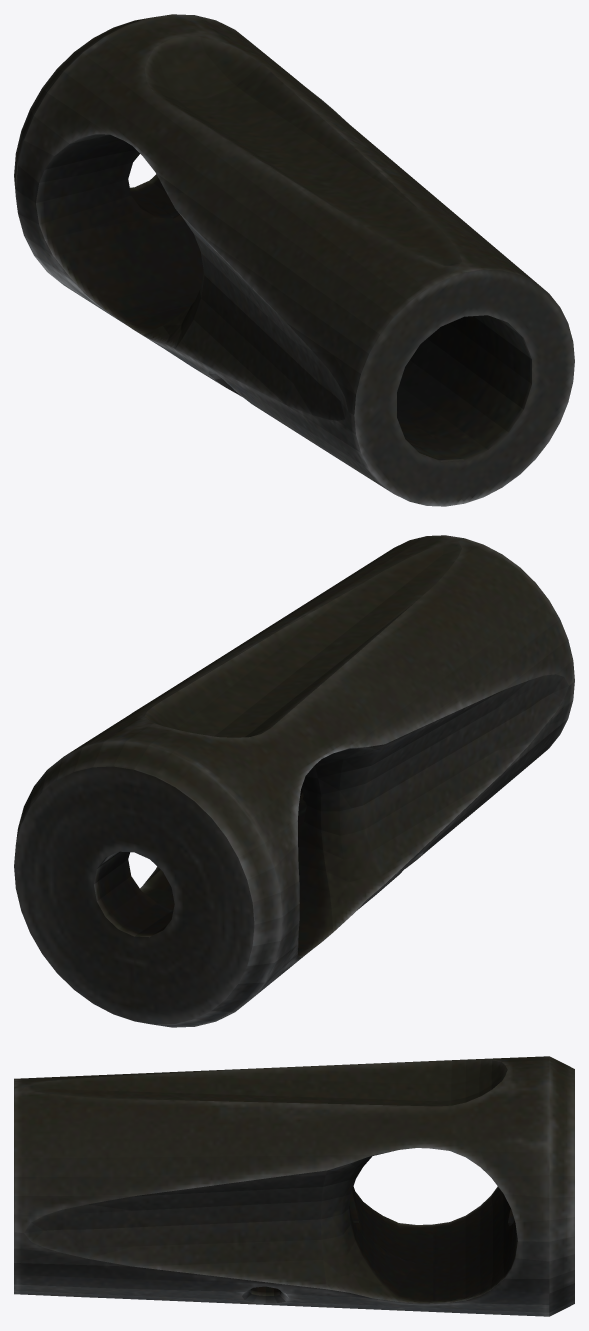
3 views of the same model, one above another, from view 1: azimuth 30°, elevation 25°; view 2: azimuth 150°, elevation 25°; view 3: azimuth 270°, elevation 25° (orthographic). The views are drawn at different scales.
Visible parts, largest first — view 1: TW_5d02676dd7ad1a049e54f6dc_PZ_Import; view 2: TW_5d02676dd7ad1a049e54f6dc_PZ_Import; view 3: TW_5d02676dd7ad1a049e54f6dc_PZ_Import.
Boxes of the visible parts, x1,y1,x2,y2 form: TW_5d02676dd7ad1a049e54f6dc_PZ_Import: (14, 14, 574, 506); TW_5d02676dd7ad1a049e54f6dc_PZ_Import: (14, 535, 574, 1027); TW_5d02676dd7ad1a049e54f6dc_PZ_Import: (14, 1056, 574, 1316).
Size of the model in its own units: 0.0119 by 0.0256 by 0.0119.
Materials: 1 (1 with a texture image).
